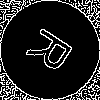R: (25, 25, 83, 81)
